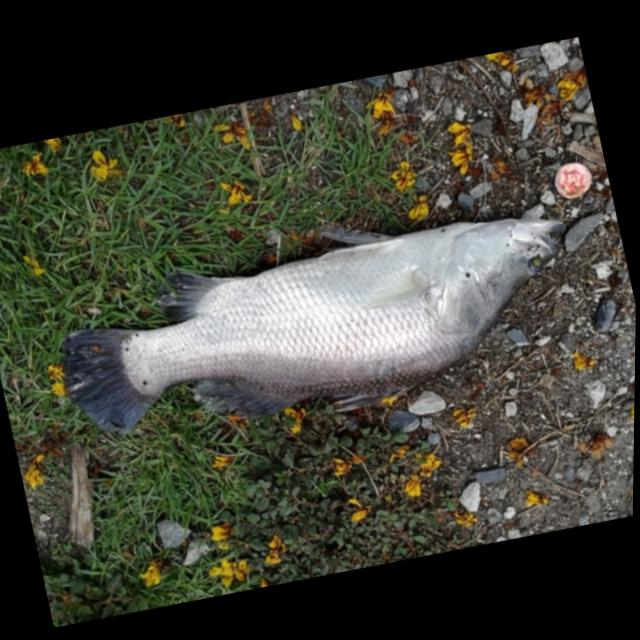Seabass: (38, 160, 597, 478)
